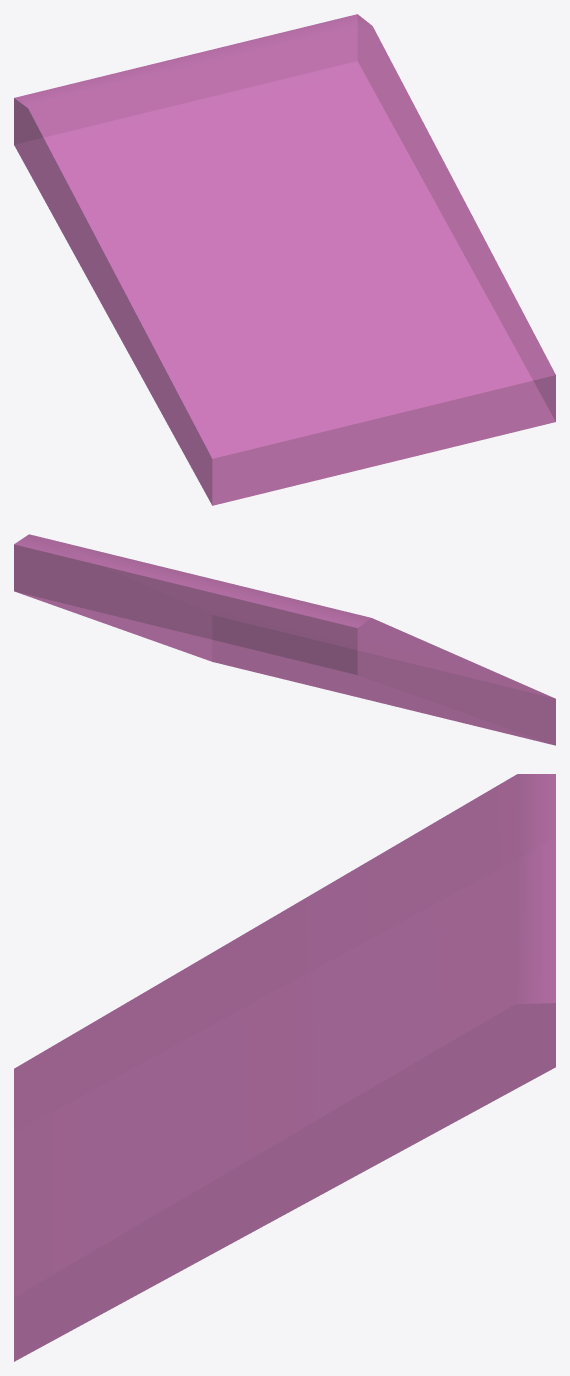
File: SM_Bld_Base_Stairs_01_Collision.glb
3 renders of one model, top to bottom at view 1: azimuth 30°, elevation 25°; view 2: azimuth 150°, elevation 25°; view 3: azimuth 270°, elevation 25°, orthographic. The views are drawn at different scales.
Visible parts, largest first — view 1: SM_Bld_Base_Stairs_01_Collision; view 2: SM_Bld_Base_Stairs_01_Collision; view 3: SM_Bld_Base_Stairs_01_Collision.
Part boxes in pixels (x1,y1,x2,y2): SM_Bld_Base_Stairs_01_Collision: [14, 14, 555, 505]; SM_Bld_Base_Stairs_01_Collision: [14, 534, 555, 745]; SM_Bld_Base_Stairs_01_Collision: [14, 774, 555, 1361].
Bounding box in the file's own units: 2.5 × 1.83 × 2.5.
